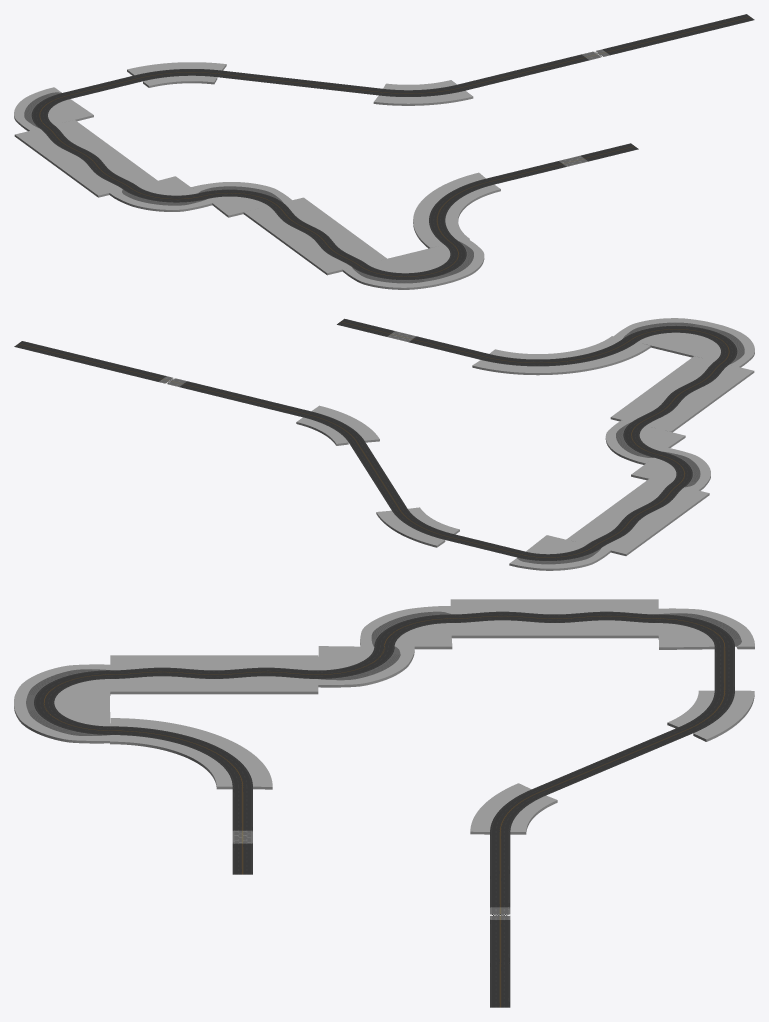
The model's file is level_3.fbx.
3 views of the same model, one above another, from view 1: azimuth 30°, elevation 25°; view 2: azimuth 150°, elevation 25°; view 3: azimuth 270°, elevation 25° (orthographic). The views are drawn at different scales.
Parts seen in each view (by area): view 1: bigwave_backsideR1, bigwave_backsideR2, bigwave_backsideR, bigwave_backsideR3, bigwaveRoad2, bigwaveRoad1, road_turn_roadsideR2, polySurface374, polySurface387, polySurface382, polySurface380, polySurface388 (+28 smaller); view 2: bigwave_backsideR2, bigwave_backsideR1, bigwave_backsideR, bigwave_backsideR3, bigwaveRoad2, bigwaveRoad1, road_turn_roadsideR, polySurface380, polySurface388, polySurface374, polySurface387, polySurface382 (+29 smaller); view 3: bigwave_backsideR, bigwave_backsideR3, bigwave_backsideR2, bigwave_backsideR1, bigwaveRoad1, bigwaveRoad2, polySurface380, polySurface374, polySurface388, polySurface387, polySurface382, polySurface389 (+30 smaller).
Part boxes in pixels (x1,y1,x2,y2): bigwave_backsideR1: (243, 206, 351, 275); bigwave_backsideR2: (14, 128, 122, 197); bigwave_backsideR: (283, 197, 386, 263); bigwave_backsideR3: (54, 120, 157, 185); bigwaveRoad2: (40, 125, 136, 189); bigwaveRoad1: (269, 202, 365, 266); road_turn_roadsideR2: (373, 90, 473, 105); polySurface374: (352, 263, 438, 283); polySurface387: (122, 186, 206, 205); polySurface382: (198, 186, 282, 205); polySurface380: (428, 241, 473, 278); polySurface388: (24, 92, 69, 128); bigwave_backsideR2: (601, 487, 709, 555); bigwave_backsideR1: (646, 364, 754, 432); bigwave_backsideR: (610, 356, 714, 422); bigwave_backsideR3: (566, 479, 669, 544); bigwaveRoad2: (587, 483, 684, 547); bigwaveRoad1: (632, 361, 728, 425); road_turn_roadsideR: (472, 360, 571, 375); polySurface380: (623, 322, 709, 341); polySurface388: (517, 544, 601, 564); polySurface374: (699, 327, 744, 364); polySurface387: (654, 451, 700, 487); polySurface382: (616, 422, 661, 457); bigwave_backsideR: (110, 676, 318, 694); bigwave_backsideR3: (450, 620, 658, 638); bigwave_backsideR2: (450, 599, 658, 614); bigwave_backsideR1: (110, 655, 318, 670); bigwaveRoad1: (110, 667, 318, 678); bigwaveRoad2: (450, 611, 658, 622); polySurface380: (26, 702, 110, 735); polySurface374: (26, 669, 110, 702); polySurface388: (658, 613, 741, 646); polySurface387: (371, 611, 450, 646); polySurface382: (318, 646, 400, 680); polySurface389: (658, 623, 714, 649).
Size of the model in its own units: 93303 by 275 by 71535.
